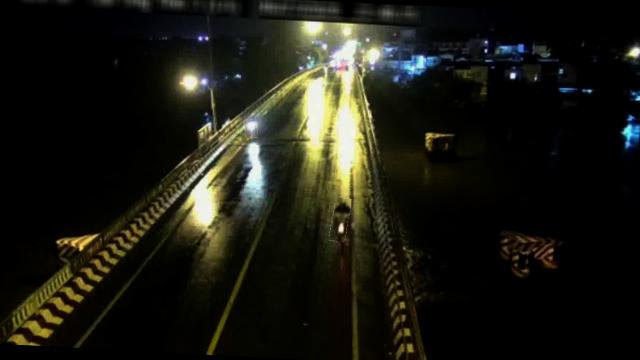Bike: (330, 196, 350, 242), (243, 118, 258, 138)
